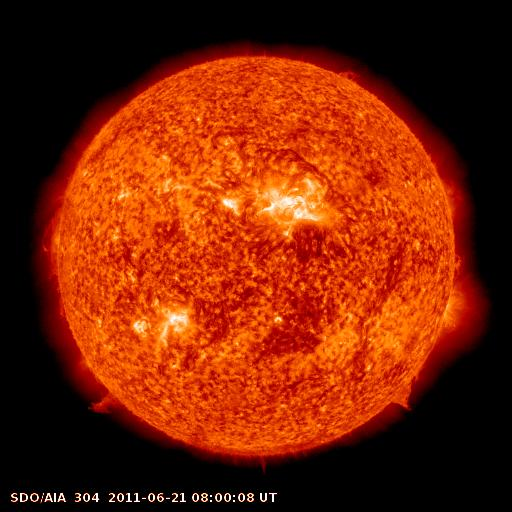prominence: (33, 193, 70, 319), (79, 385, 133, 425), (381, 373, 426, 418)
